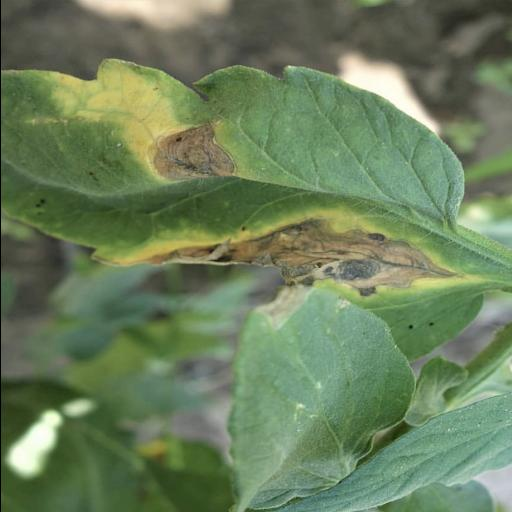Early Blight: (0, 58, 464, 302)
